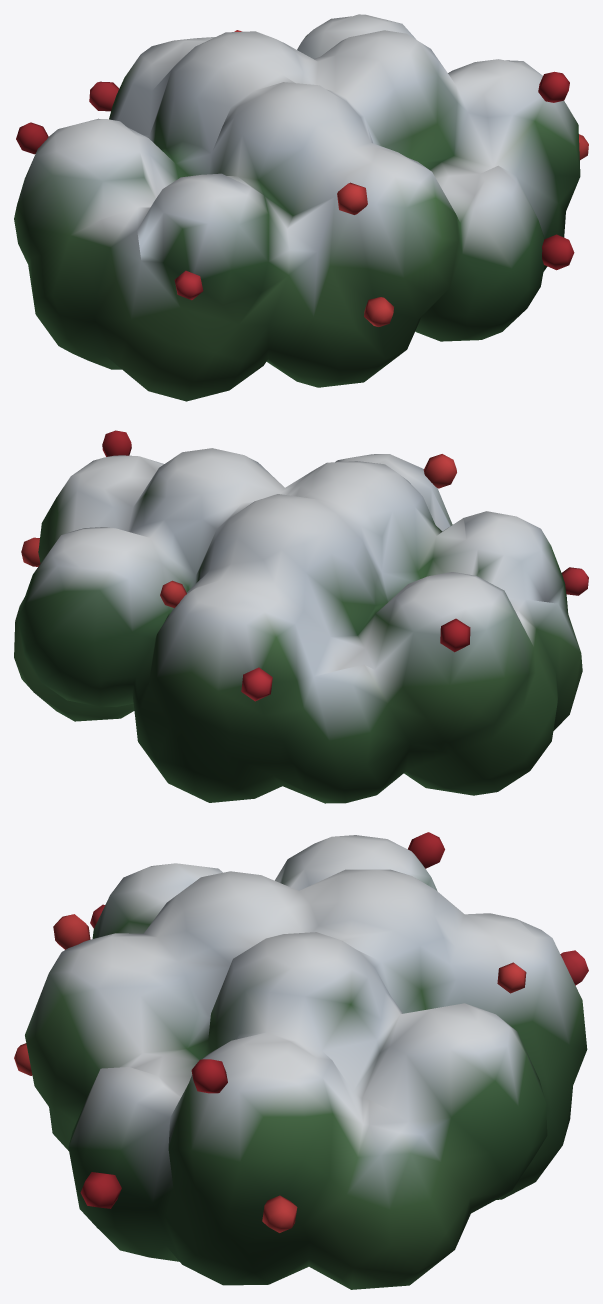
File: bush-b-winter.glb
3 renders of one model, top to bottom at view 1: azimuth 30°, elevation 25°; view 2: azimuth 150°, elevation 25°; view 3: azimuth 270°, elevation 25°, orthographic. The views are drawn at different scales.
Parts seen in each view (by area): view 1: bush-b-winter; view 2: bush-b-winter; view 3: bush-b-winter.
Part boxes in pixels (x1,y1,x2,y2): bush-b-winter: (14, 14, 588, 401); bush-b-winter: (14, 430, 588, 803); bush-b-winter: (14, 832, 588, 1289).
Size of the model in its own units: 1.4 by 0.658 by 1.13.
